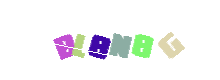8: (69, 0, 149, 80), (96, 0, 176, 80)
B: (26, 0, 106, 80)
G: (102, 0, 182, 80)
L: (59, 0, 139, 80)
N: (79, 0, 159, 80)
